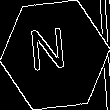N_S: (34, 28, 76, 82)
